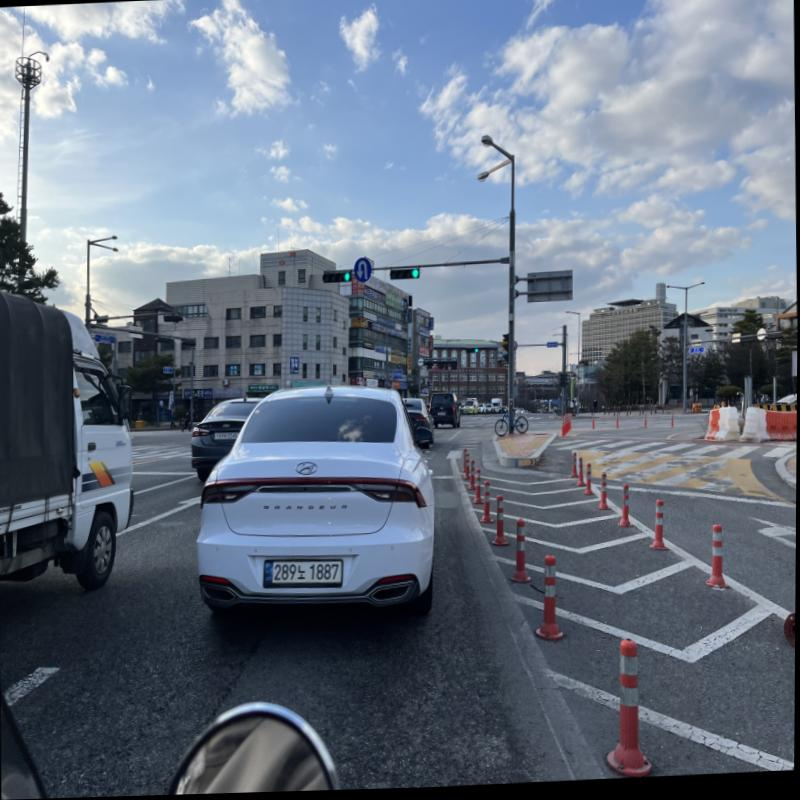green: (343, 274, 352, 283), (411, 271, 419, 280)
